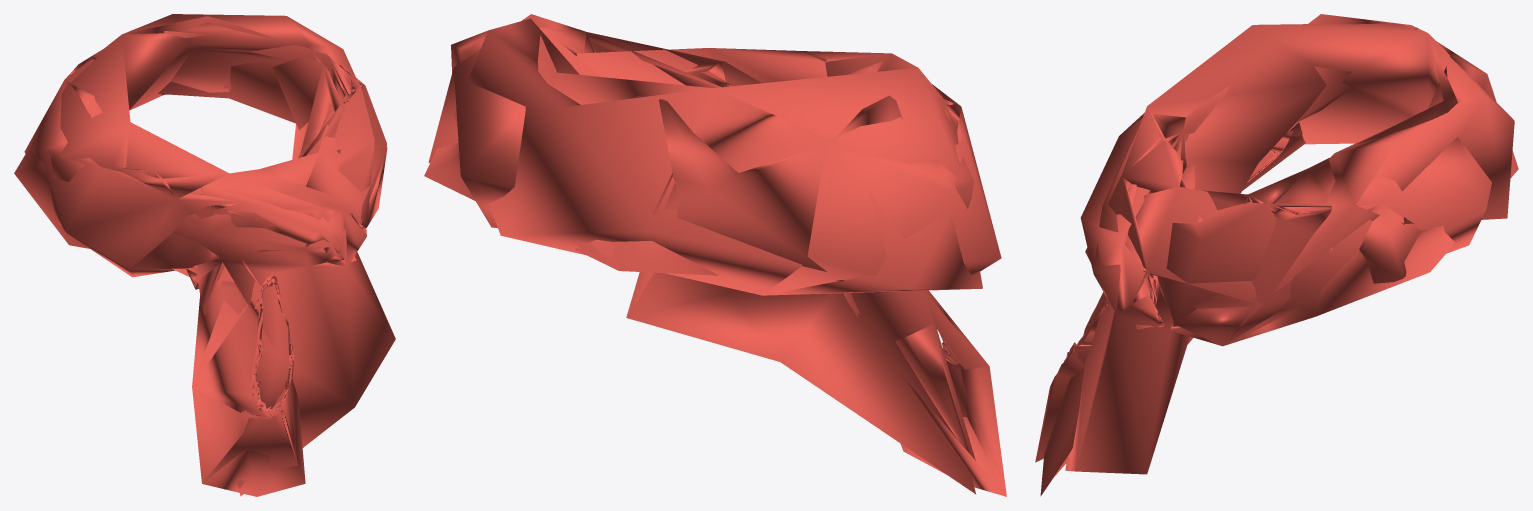
File: scarf.glb
3 views of the same model, side by side, from view 1: azimuth 30°, elevation 25°; view 2: azimuth 150°, elevation 25°; view 3: azimuth 270°, elevation 25° (orthographic). The views are drawn at different scales.
Visible parts, largest first — view 1: scarf; view 2: scarf; view 3: scarf.
Boxes of the visible parts, left/top/right/bottom form: scarf: left=14, top=14, right=395, bottom=496; scarf: left=424, top=14, right=1006, bottom=496; scarf: left=1035, top=14, right=1518, bottom=496.
Size of the model in its own units: 0.8645 by 0.8996 by 0.8725.
